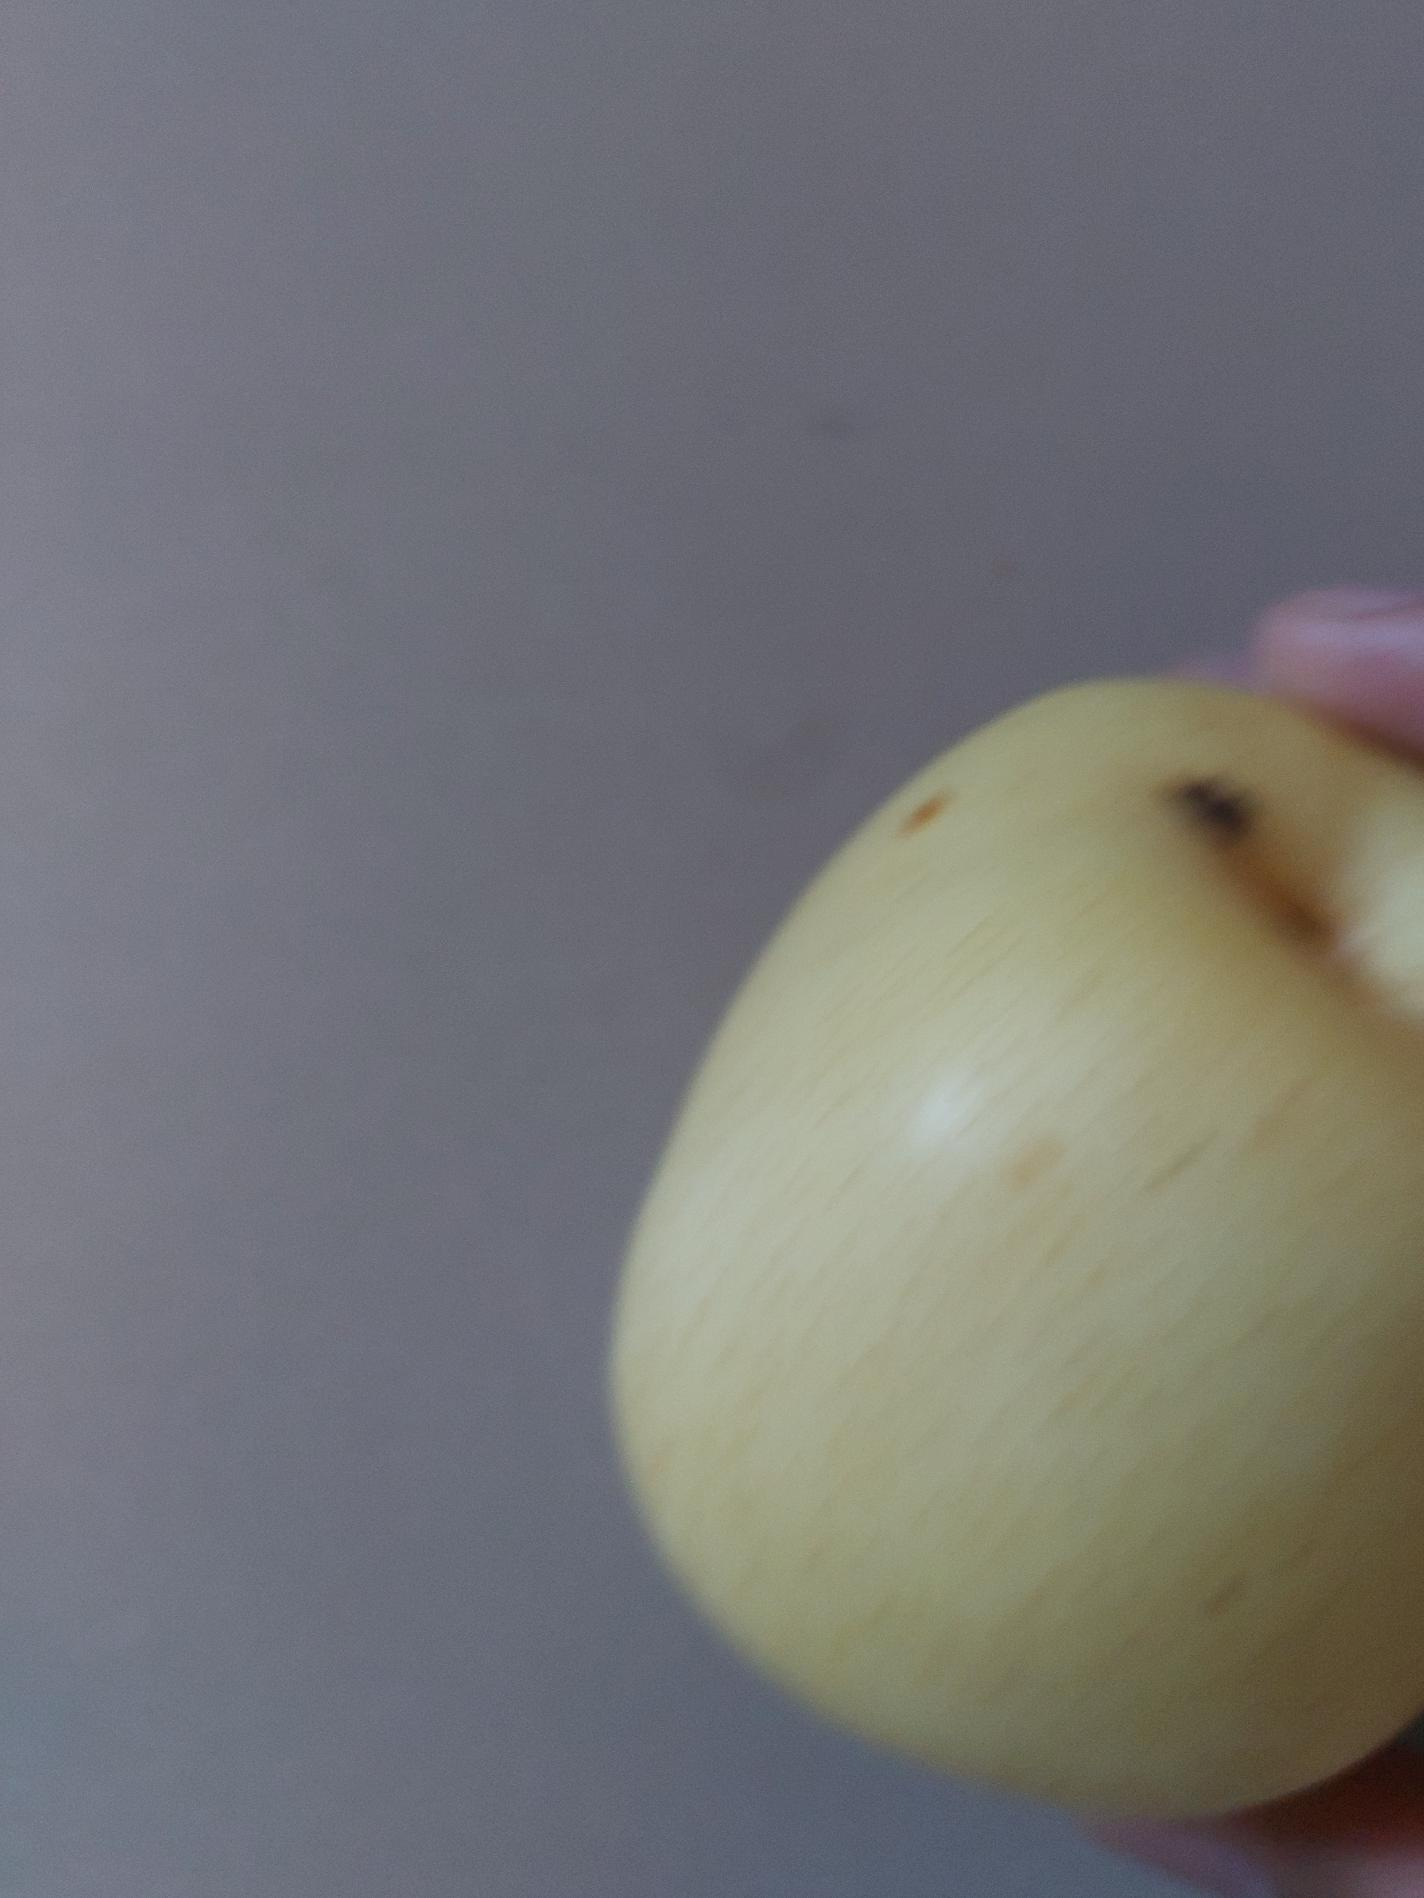Good Pear: (607, 672, 1424, 1816)
